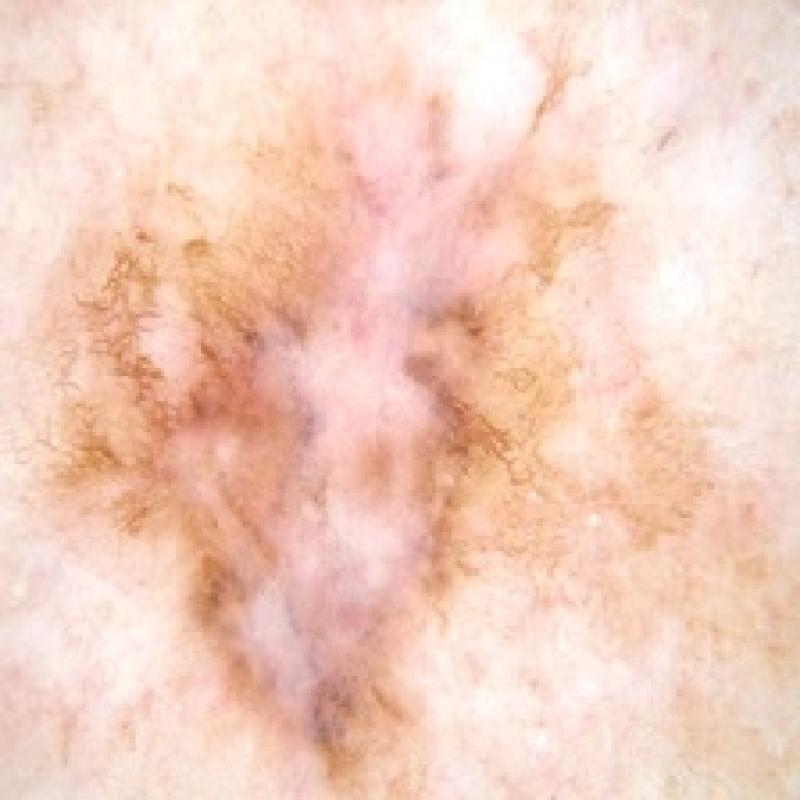malignant: (38, 44, 636, 782)
